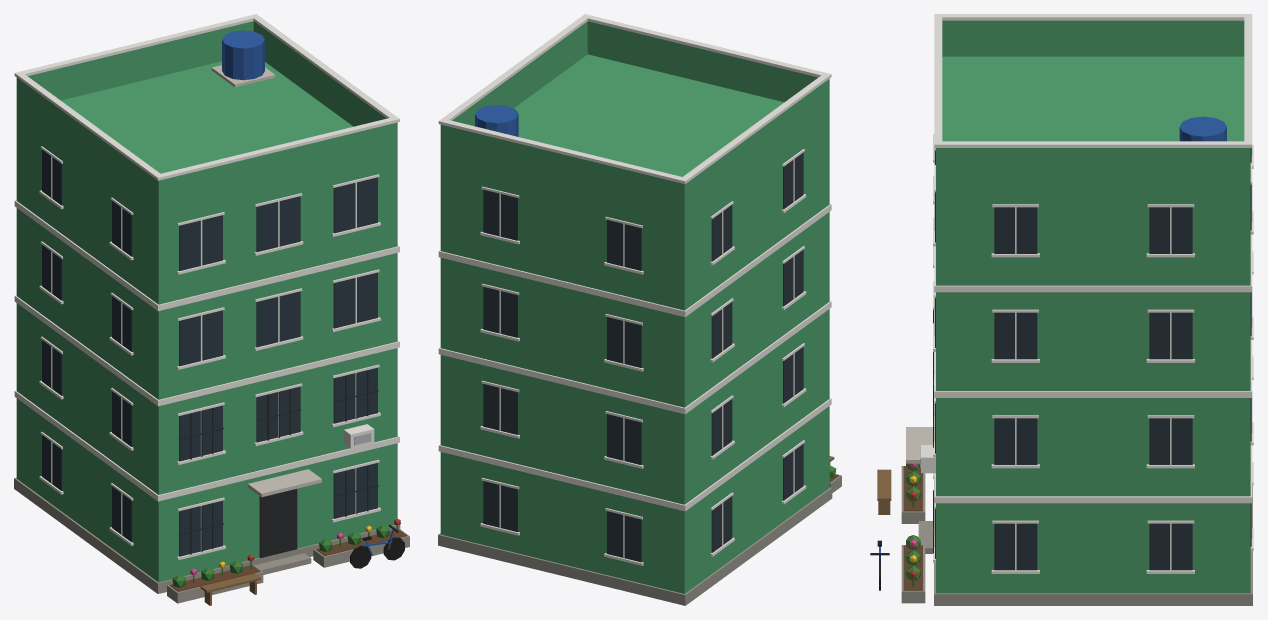
The model's file is BAY_F_Tower_R.glb.
3 views of the same model, side by side, from view 1: azimuth 30°, elevation 25°; view 2: azimuth 150°, elevation 25°; view 3: azimuth 270°, elevation 25° (orthographic). The views are drawn at different scales.
Parts seen in each view (by area): view 1: BAY_F_Tower_R; view 2: BAY_F_Tower_R; view 3: BAY_F_Tower_R.
Boxes of the visible parts, x1,y1,x2,y2 form: BAY_F_Tower_R: [14, 14, 409, 605]; BAY_F_Tower_R: [438, 14, 841, 605]; BAY_F_Tower_R: [870, 14, 1253, 605].
Bounding box in the file's own units: 7.24 × 11.8 × 8.89.
Materials: 1 (1 with a texture image).
